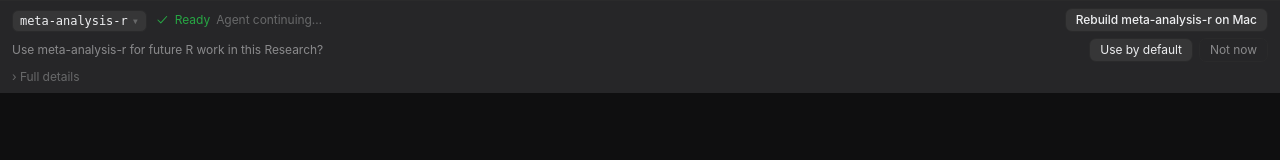
Test: asks the default question once the job is ready, and keeps it up when the answer is refused
expect the text "Use meta-analysis-r for future R work in this Research?" is shown: met, box [12,42,323,57]
expect the message shows "Agent continuing…": met, box [216,12,322,27]
Click the button "Use by default": (1141, 50) [1089,38,1193,62]
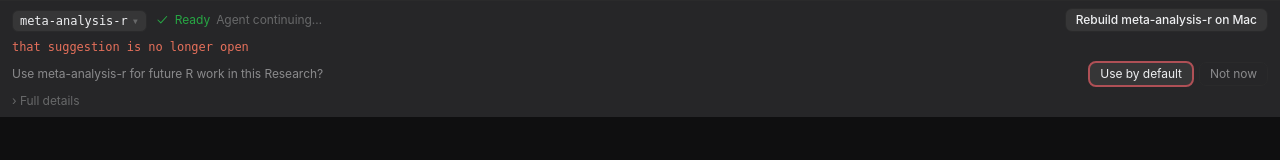
expect the text "Use meta-analysis-r for future R work in this Research?" is shown: met, box [12,66,323,81]
expect the message "that suggestion is no longer open" is shown: met, box [12,40,249,54]
